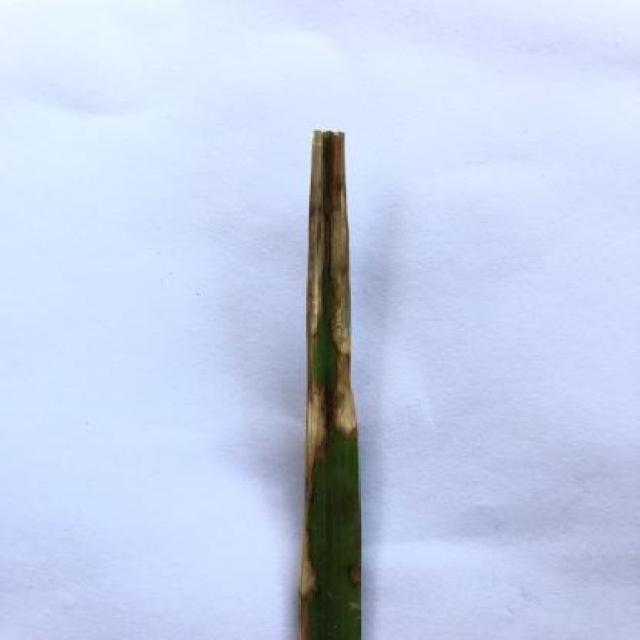Brown_Spot: (289, 120, 373, 640)
